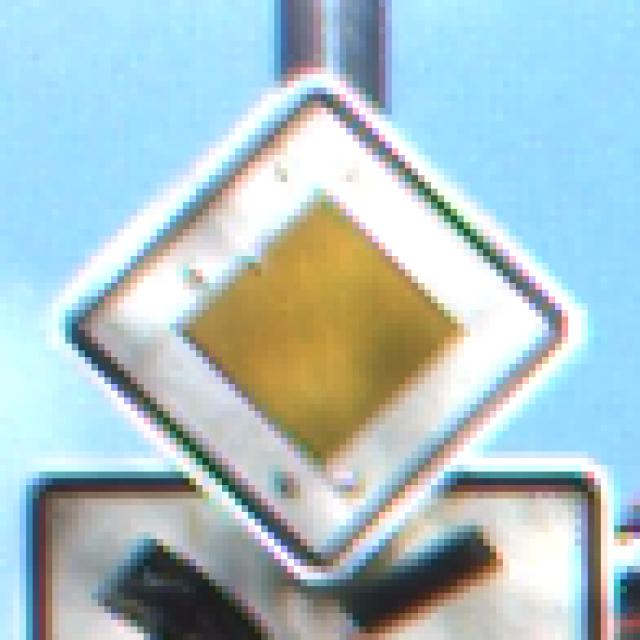Main Road: (53, 55, 589, 587)
